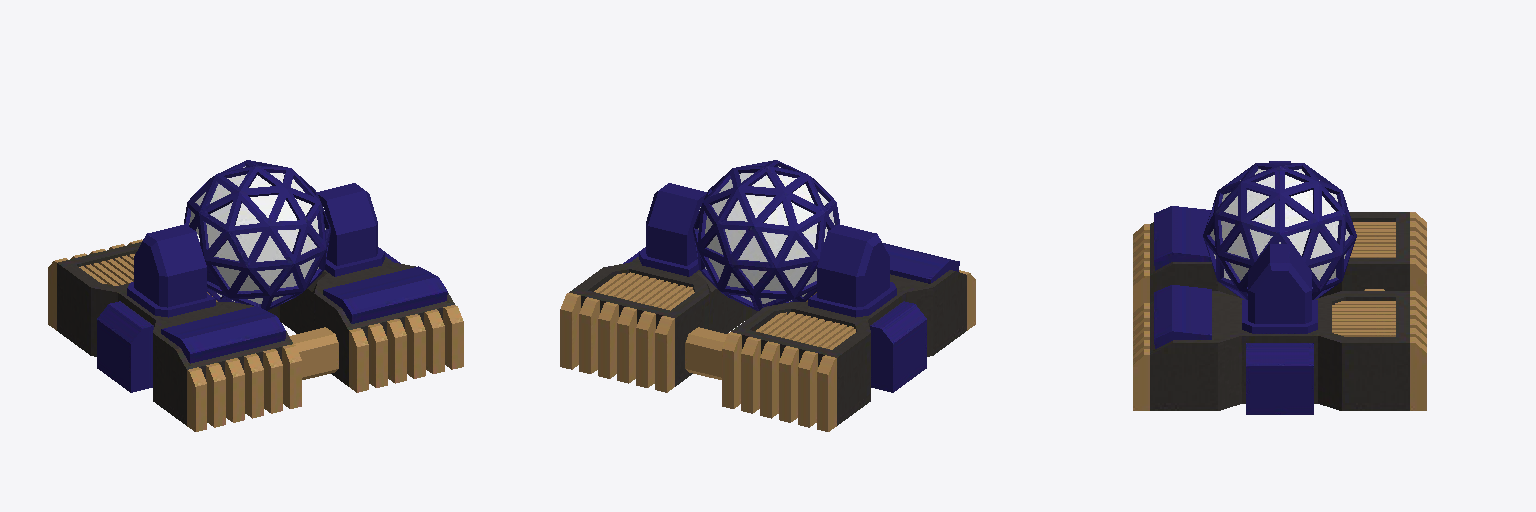
The picture shows the model from 3 angles: view 1: azimuth 30°, elevation 25°; view 2: azimuth 150°, elevation 25°; view 3: azimuth 270°, elevation 25°; orthographic projection.
Visible parts, largest first — view 1: Plane.002_low, Icosphere_low, Plane.003_low, Cube_low, Cube.003_low, Cube.001_low, Cube.002_low; view 2: Plane.003_low, Plane.002_low, Icosphere_low, Cube_low, Cube.002_low, Cube.003_low, Cube.001_low; view 3: Plane.002_low, Icosphere_low, Plane.003_low, Cube_low, Cube.003_low, Cube.002_low.
Part boxes in pixels (left/top/right/bottom): Plane.002_low: left=57, top=242, right=454, bottom=425; Icosphere_low: left=184, top=160, right=330, bottom=310; Plane.003_low: left=48, top=239, right=463, bottom=431; Cube_low: left=127, top=183, right=384, bottom=317; Cube.003_low: left=97, top=247, right=400, bottom=392; Cube.001_low: left=207, top=292, right=338, bottom=379; Cube.002_low: left=79, top=254, right=134, bottom=285; Plane.003_low: left=560, top=270, right=975, bottom=431; Plane.002_low: left=569, top=243, right=966, bottom=425; Icosphere_low: left=693, top=160, right=839, bottom=310; Cube_low: left=639, top=183, right=896, bottom=317; Cube.002_low: left=594, top=272, right=855, bottom=349; Cube.003_low: left=623, top=247, right=926, bottom=392; Cube.001_low: left=685, top=292, right=816, bottom=379; Plane.002_low: left=1150, top=206, right=1409, bottom=410; Icosphere_low: left=1203, top=163, right=1356, bottom=299; Plane.003_low: left=1133, top=212, right=1426, bottom=410; Cube_low: left=1242, top=161, right=1317, bottom=333; Cube.003_low: left=1246, top=343, right=1313, bottom=414; Cube.002_low: left=1332, top=222, right=1395, bottom=336.
Bounding box in the file's own units: 5.33 × 3.22 × 4.78.
1 materials, 1 textured.